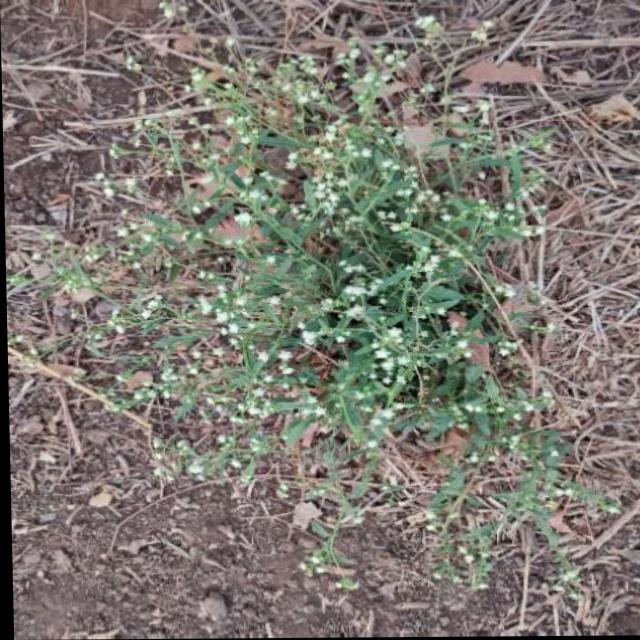weed: (55, 64, 614, 497)
